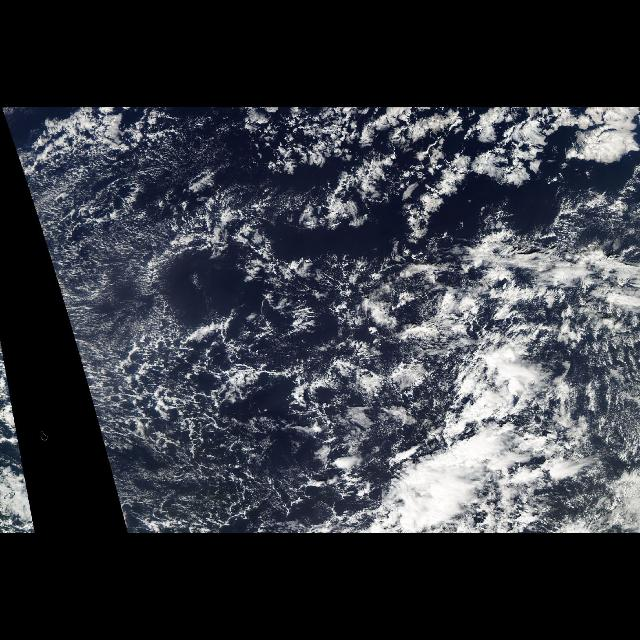Flower: (297, 107, 638, 235)
Gravel: (71, 239, 408, 529)
